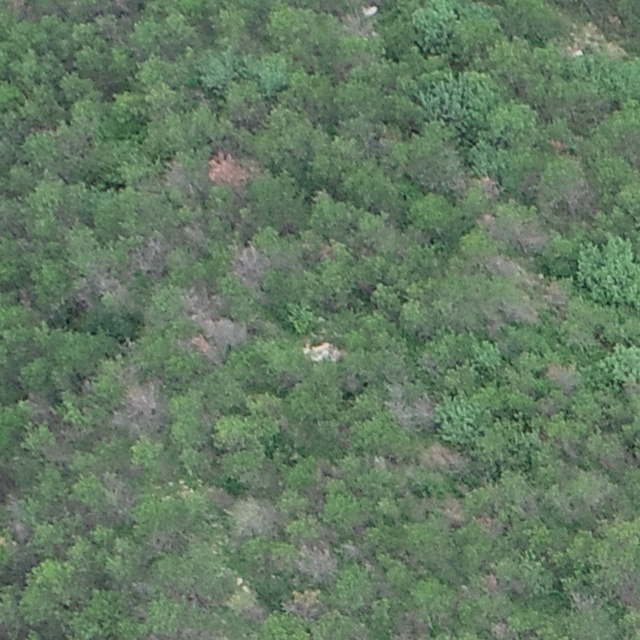unhealthy: (111, 378, 164, 438), (230, 497, 282, 539), (385, 392, 434, 431), (206, 148, 253, 187), (295, 538, 337, 581), (228, 242, 268, 286), (130, 235, 173, 275), (98, 470, 137, 514), (419, 439, 468, 472), (180, 282, 220, 321), (197, 317, 248, 347), (561, 178, 599, 218), (183, 332, 225, 366), (392, 607, 431, 640), (281, 589, 323, 619), (87, 268, 124, 299), (161, 159, 194, 192), (614, 571, 640, 612), (513, 222, 547, 253), (543, 361, 577, 391), (145, 528, 182, 555), (501, 298, 538, 325), (598, 444, 630, 475), (482, 253, 521, 278), (24, 389, 55, 419), (567, 587, 600, 613), (440, 495, 467, 525), (181, 221, 207, 251), (476, 512, 504, 539), (543, 277, 569, 306), (475, 174, 503, 200), (206, 484, 234, 507), (240, 601, 268, 622), (8, 518, 31, 542), (175, 627, 216, 640), (475, 211, 499, 233), (481, 570, 503, 594), (489, 619, 514, 640), (66, 291, 93, 310), (342, 542, 365, 562), (108, 0, 139, 12)
